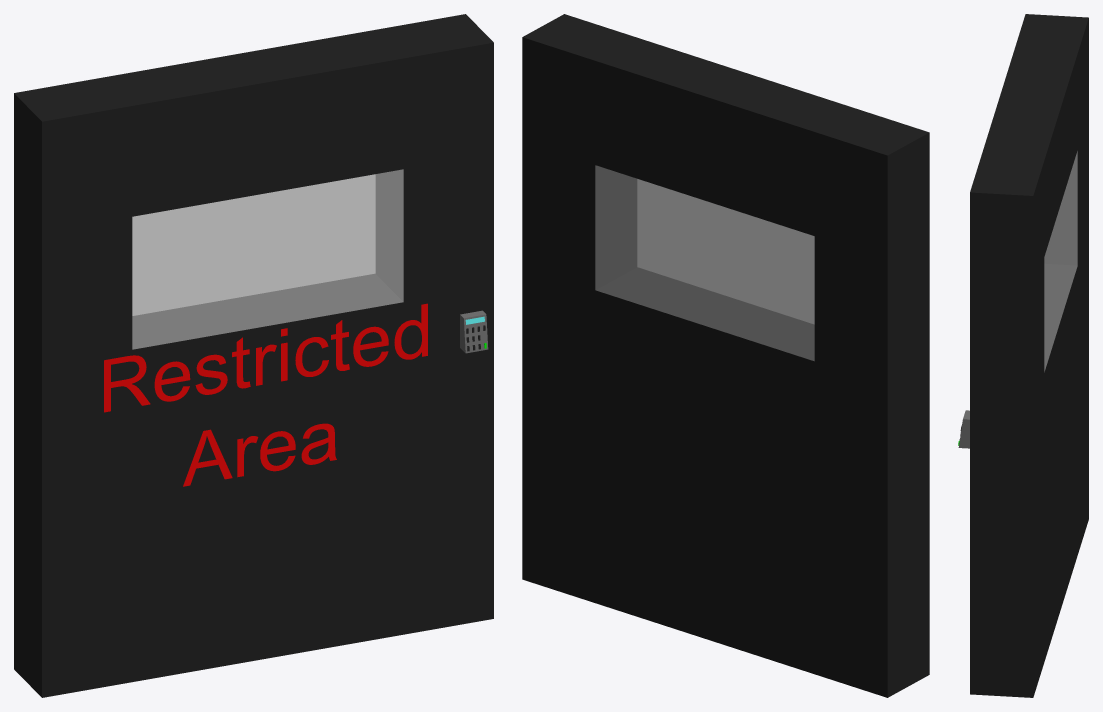
The model's file is door_alien.dae.
3 renders of one model, left to right at view 1: azimuth 30°, elevation 25°; view 2: azimuth 150°, elevation 25°; view 3: azimuth 270°, elevation 25°, orthographic. The views are drawn at different scales.
Visible parts, largest first — view 1: SketchUp (×5), Restricted_Area (×7); view 2: SketchUp (×4); view 3: SketchUp (×4).
Boxes of the visible parts, x1=… form: SketchUp (×5): x1=14, y1=14, x2=493, y2=697; Restricted_Area (×7): x1=104, y1=303, x2=427, y2=486; SketchUp (×4): x1=522, y1=14, x2=929, y2=697; SketchUp (×4): x1=958, y1=14, x2=1088, y2=697.
Bounding box in the file's own units: 79.61 × 24.18 × 102.
